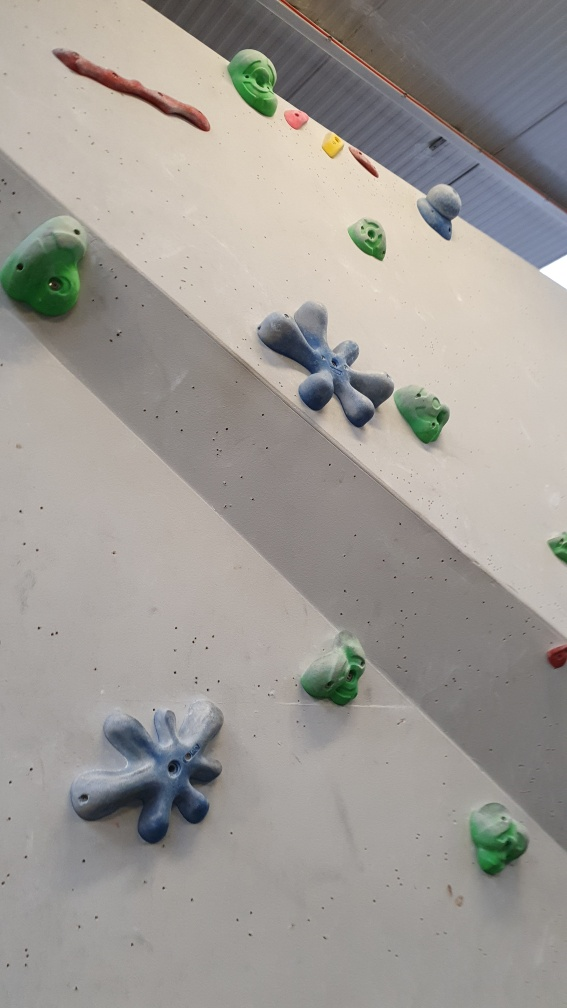Crimp: (347, 147, 384, 180)
Jug: (1, 211, 91, 322), (464, 795, 535, 882), (297, 624, 371, 707), (392, 379, 451, 444), (231, 45, 279, 122), (343, 216, 386, 271)
Octopus Pinch: (67, 699, 231, 856), (254, 298, 395, 429)
Sloper: (410, 180, 464, 244)
